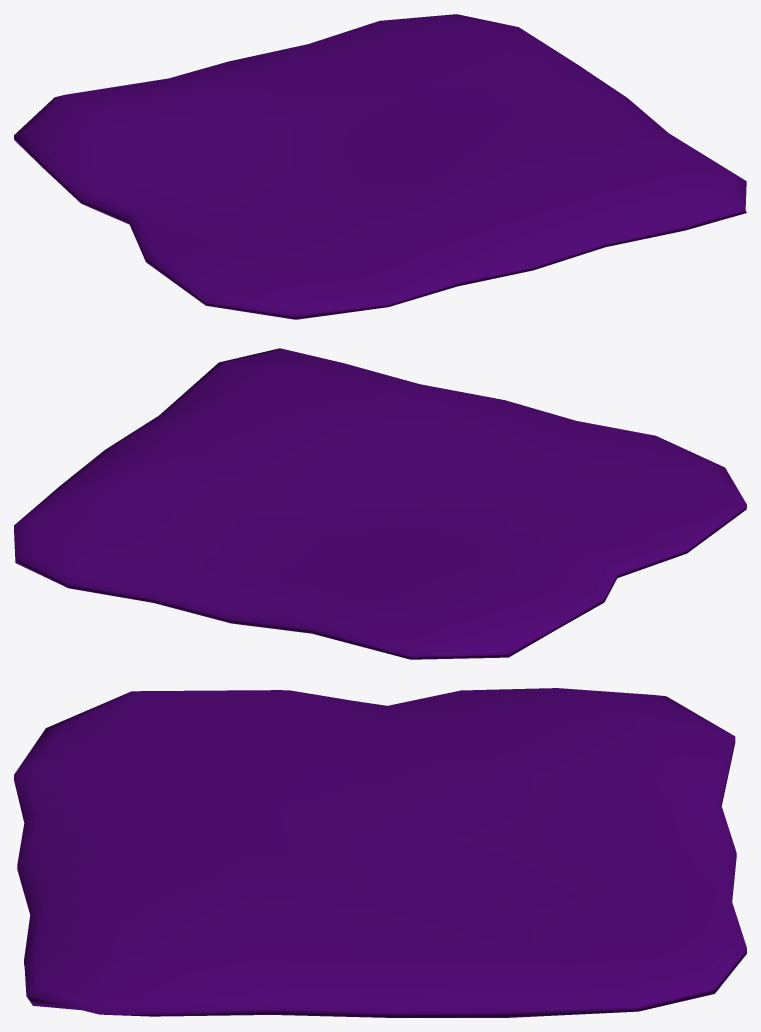
Rendered from JellySplat.fbx.
3 renders of one model, top to bottom at view 1: azimuth 30°, elevation 25°; view 2: azimuth 150°, elevation 25°; view 3: azimuth 270°, elevation 25°, orthographic. The views are drawn at different scales.
Visible parts, largest first — view 1: JellySplat; view 2: JellySplat; view 3: JellySplat.
Boxes of the visible parts, left/top/right/bottom form: JellySplat: left=14, top=14, right=746, bottom=319; JellySplat: left=14, top=348, right=746, bottom=659; JellySplat: left=14, top=688, right=746, bottom=1017.
Bounding box in the file's own units: 48.06 × 3.29 × 45.83.
